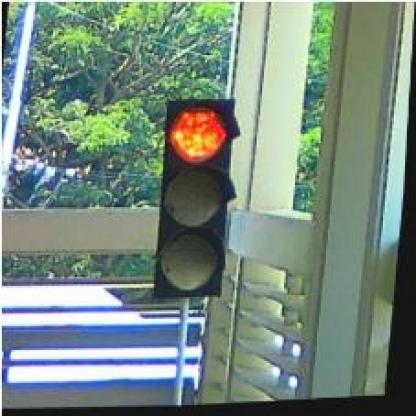red: (151, 96, 245, 304)
